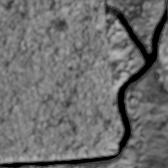brick: (0, 0, 117, 162)
crack: (0, 0, 167, 167)
